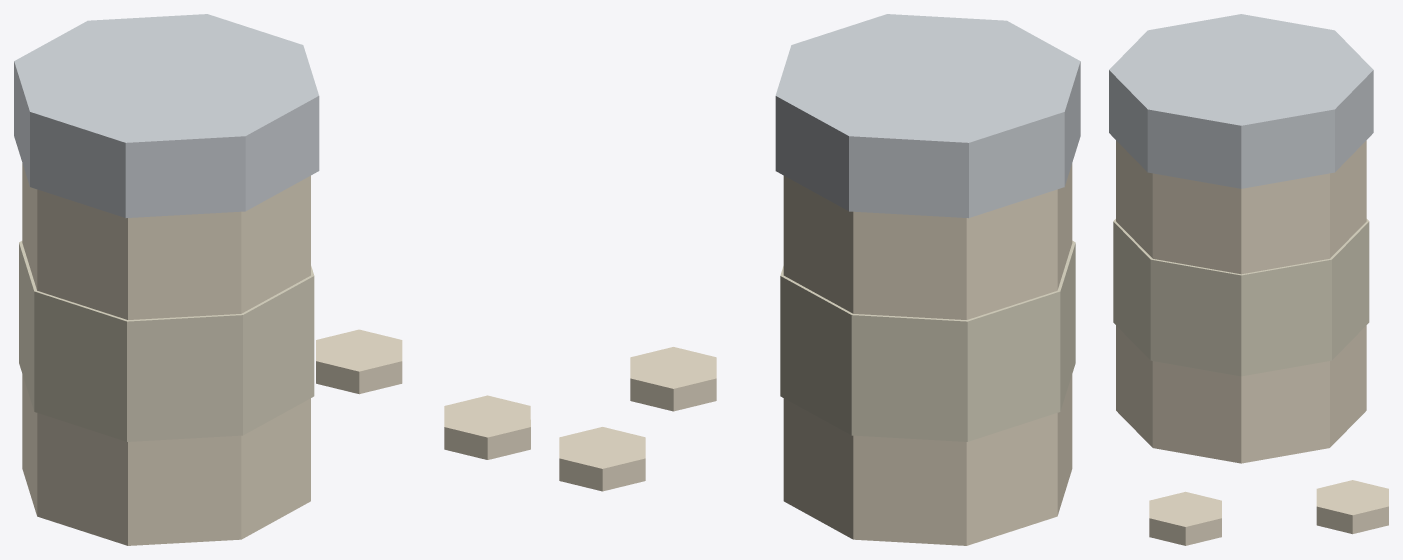
File: drug_pills.obj
3 views of the same model, side by side, from view 1: azimuth 30°, elevation 25°; view 2: azimuth 150°, elevation 25°; view 3: azimuth 270°, elevation 25° (orthographic). The views are drawn at different scales.
Parts seen in each view (by area): view 1: drug_pills; view 2: drug_pills; view 3: drug_pills.
Part boxes in pixels (<box>): drug_pills: <box>14,14,530,545</box>; drug_pills: <box>559,14,1080,545</box>; drug_pills: <box>1109,14,1388,545</box>.
Size of the model in its own units: 0.325 by 0.27 by 0.201.
